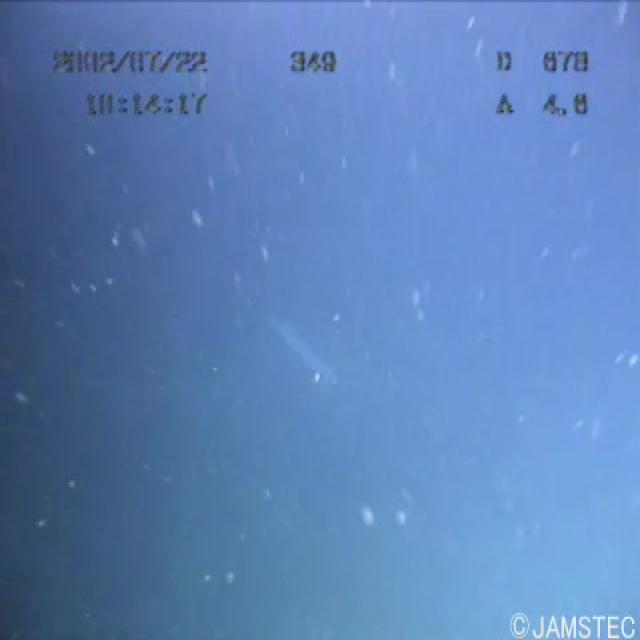plastic: (252, 308, 340, 384)
